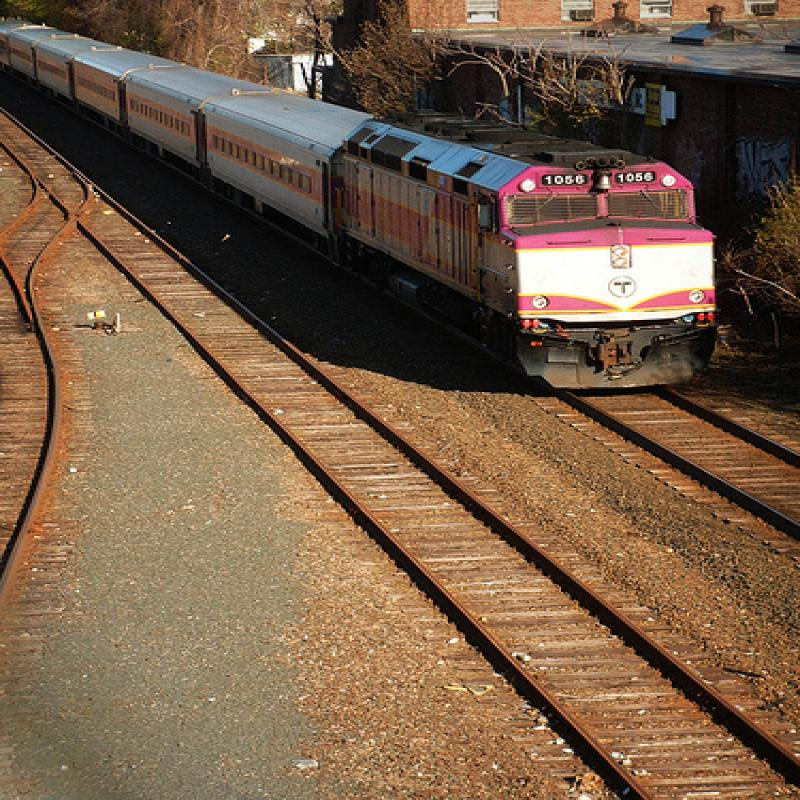train: (1, 11, 716, 392)
